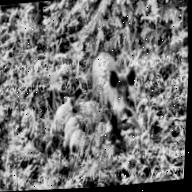boar: (71, 43, 158, 140), (46, 85, 77, 129), (67, 124, 86, 155), (59, 107, 78, 136)
